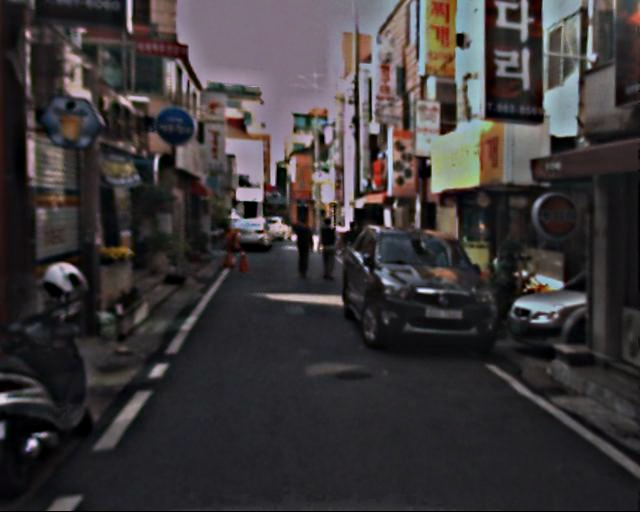person: (290, 217, 317, 283), (338, 215, 365, 280), (315, 218, 341, 281)
